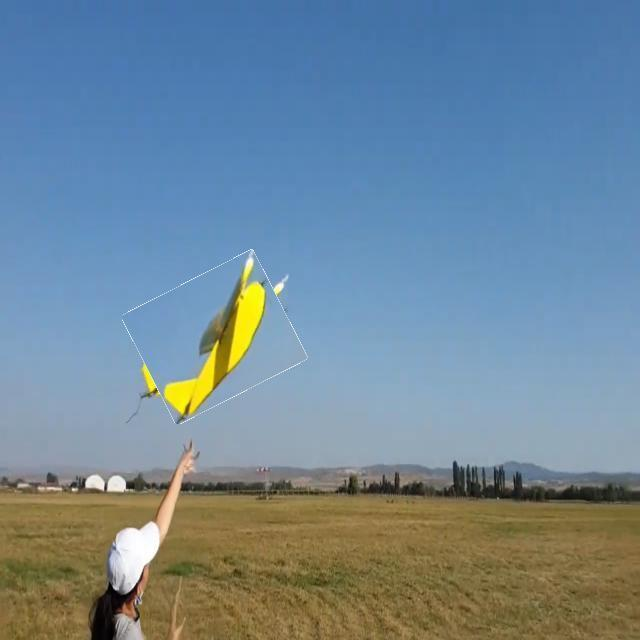UAV: (133, 254, 300, 416)
